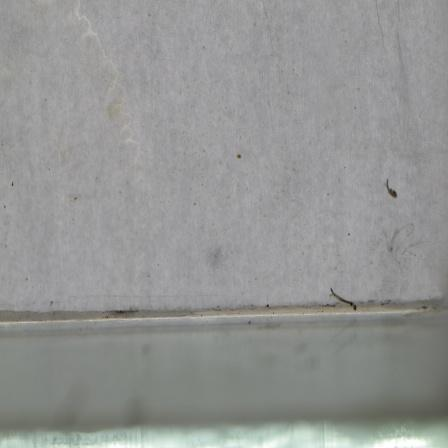Jentik-Nyamuk: (328, 283, 360, 314), (382, 173, 401, 201)
